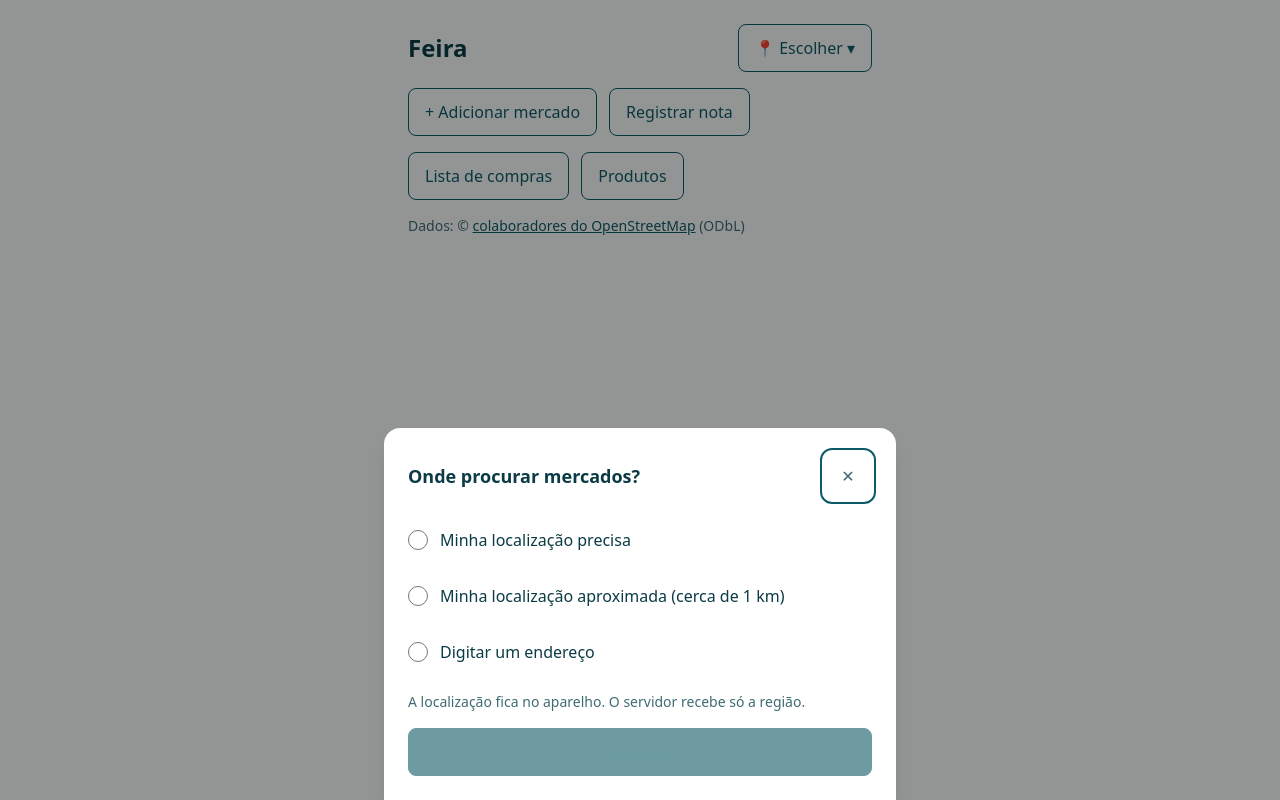
Test case: FeiraPage tour › tourWaitsForChooser
This screenshot has width=1280, height=800.
Expected: the heading "Onde procurar mercados?" is shown, [408,462,640,490]
Expected: the text "Passo 1 de" is not shown
Click the radio button labelled "Minha localização aproximada (cerca de 1 km)" at coordinates (418, 596), box [408,586,428,606]
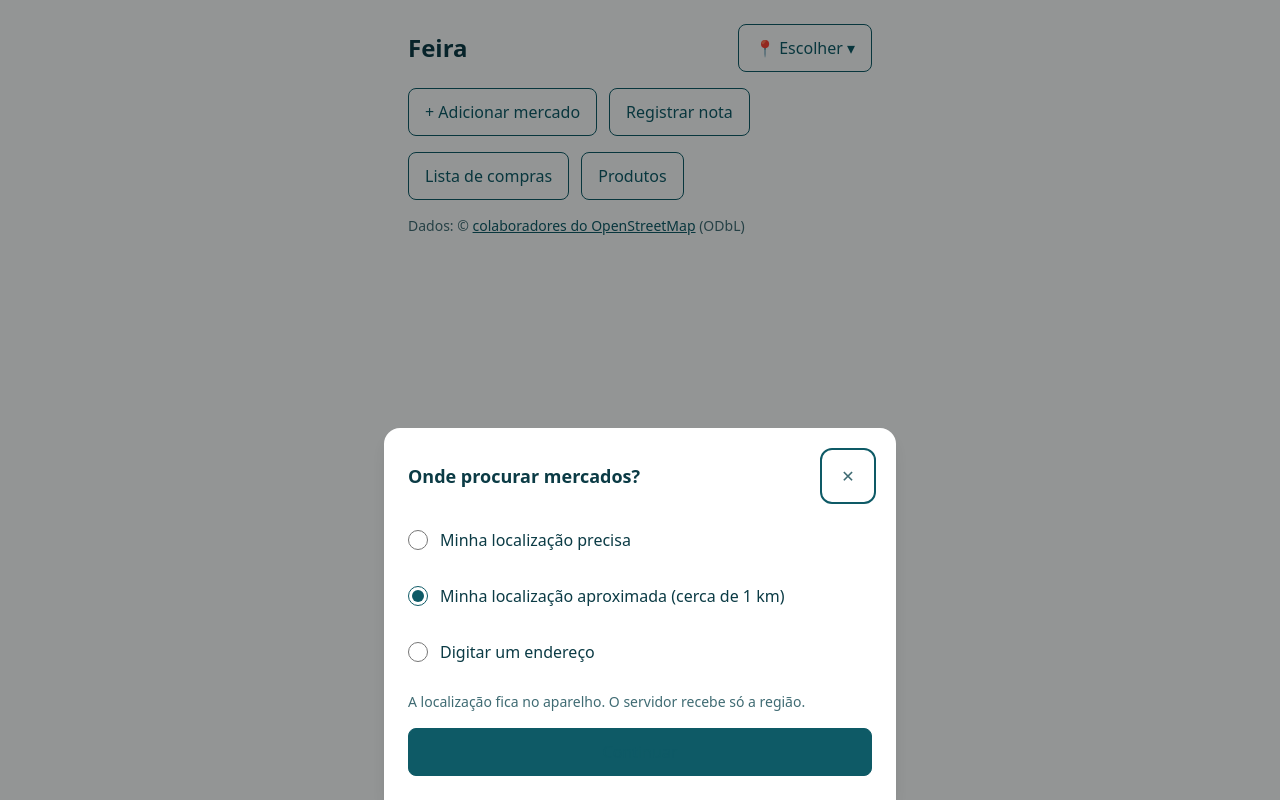
Click the button "Continuar" at coordinates (640, 752), box [408,728,872,776]
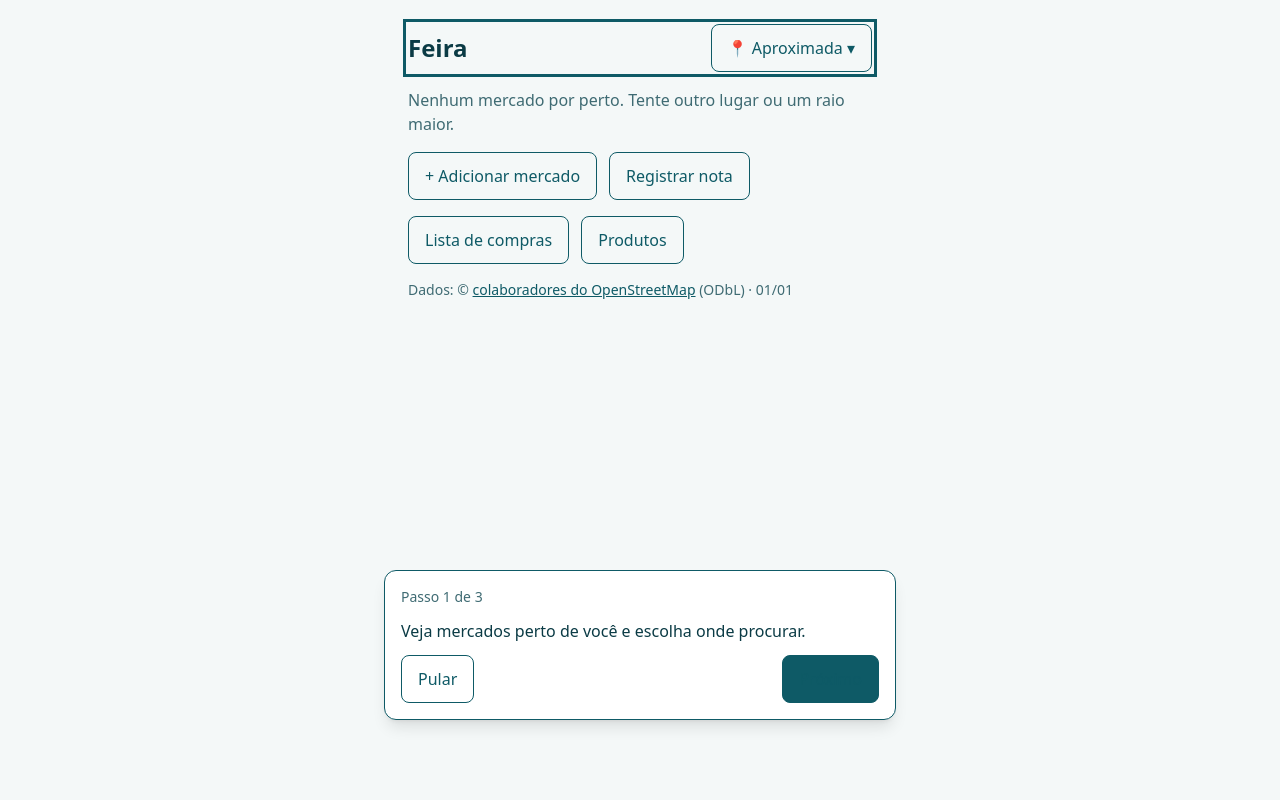
Now the text "Passo 1 de 3" is shown, box [401,587,483,606]
Now the heading "Onde procurar mercados?" is gone
